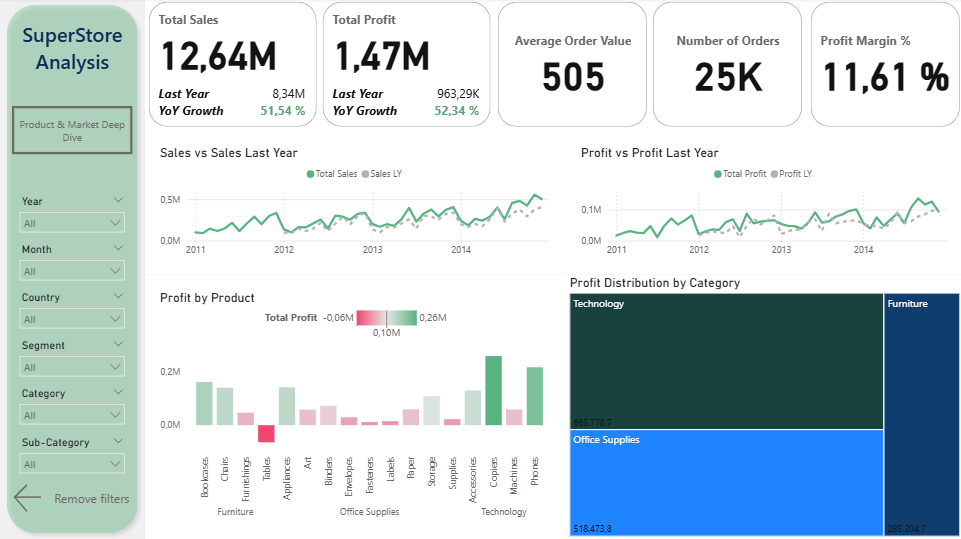

The dashboard page shown, as its layout file describes it:
{"tool":"powerbi","page":{"name":"Executive Overview","canvas":[1280,720],"ordinal":0},"visuals":[{"type":"shape","box":[0,0,192,720],"z":0},{"type":"cardVisual","fields":{"Data":["Global_Superstore2.Total Sales","Global_Superstore2.Total Profit"]},"box":[192,0,464,176],"z":1000},{"type":"cardVisual","fields":{"Data":["Global_Superstore2.Average Order Value","Global_Superstore2.Number of Orders"]},"box":[656,0,416,176],"z":2000},{"type":"cardVisual","fields":{"Data":["Global_Superstore2.Profit Margin %"]},"box":[1072,0,208,176],"z":3000},{"type":"lineChart","title":"Sales vs Sales Last Year","fields":{"Y":["Global_Superstore2.Total Sales","Global_Superstore2.Sales LY"],"Category":["Calendar.Date.Variation.Date Hierarchy.Year","Calendar.Date.Variation.Date Hierarchy.Month"]},"box":[192,176,560,192],"z":4000},{"type":"columnChart","title":"Profit by Product","fields":{"Category":["Global_Superstore2.Category","Global_Superstore2.Sub-Category"],"Y":["Global_Superstore2.Total Profit"]},"box":[192,368,560,352],"z":5000},{"type":"lineChart","title":"Profit vs Profit Last Year","fields":{"Category":["Calendar.Date.Variation.Date Hierarchy.Year","Calendar.Date.Variation.Date Hierarchy.Month"],"Y":["Global_Superstore2.Total Profit","Global_Superstore2.Profit LY"]},"box":[752,176,528,192],"z":6000},{"type":"slicer","fields":{"Values":["Calendar.Year"]},"box":[16,256,160,64],"z":7000},{"type":"slicer","fields":{"Values":["Calendar.Month Name"]},"box":[16,320,160,64],"z":8000},{"type":"slicer","fields":{"Values":["Global_Superstore2.Country"]},"box":[16,384,160,64],"z":9000},{"type":"slicer","fields":{"Values":["Global_Superstore2.Segment"]},"box":[16,448,160,64],"z":10000},{"type":"slicer","fields":{"Values":["Global_Superstore2.Category"]},"box":[16,512,160,64],"z":11000},{"type":"slicer","fields":{"Values":["Global_Superstore2.Sub-Category"]},"box":[16,576,160,64],"z":12000},{"type":"actionButton","box":[16,640,160,48],"z":13000},{"type":"treemap","title":"Profit Distribution by Category","fields":{"Group":["Global_Superstore2.Category"],"Values":["Global_Superstore2.Total Profit"]},"box":[752,368,528,352],"z":14000},{"type":"actionButton","box":[16,144,160,64],"z":15000}]}

Visuals, with their boxes in screenshot pixels (x1, y1, x2, y2), scaled from the page's 1280x720 canvas onto the 961x539 screenshot:
shape: 0, 0, 144, 538
cardVisual - Global_Superstore2.Total Sales x Global_Superstore2.Total Profit: 144, 0, 493, 132
cardVisual - Global_Superstore2.Average Order Value x Global_Superstore2.Number of Orders: 493, 0, 805, 132
cardVisual - Global_Superstore2.Profit Margin %: 805, 0, 960, 132
"Sales vs Sales Last Year" lineChart: 144, 132, 565, 275
"Profit by Product" columnChart: 144, 275, 565, 538
"Profit vs Profit Last Year" lineChart: 565, 132, 960, 275
slicer - Calendar.Year: 12, 192, 132, 240
slicer - Calendar.Month Name: 12, 240, 132, 287
slicer - Global_Superstore2.Country: 12, 287, 132, 335
slicer - Global_Superstore2.Segment: 12, 335, 132, 383
slicer - Global_Superstore2.Category: 12, 383, 132, 431
slicer - Global_Superstore2.Sub-Category: 12, 431, 132, 479
actionButton: 12, 479, 132, 515
"Profit Distribution by Category" treemap: 565, 275, 960, 538
actionButton: 12, 108, 132, 156
